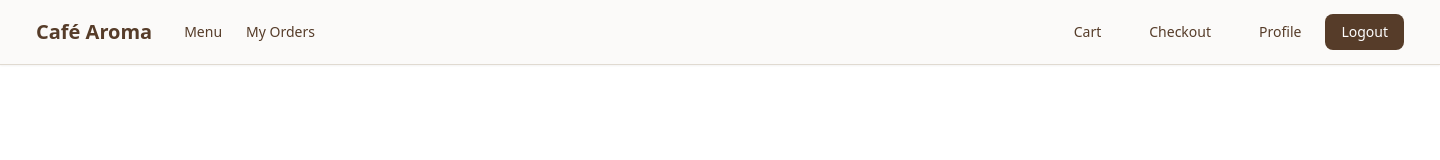
Test: Navbar Component › Logout Functionality › shows 'Logging out...' text while logout is in progress
Click the button "Logout".
click(1365, 32)  # box [1325, 14, 1404, 50]
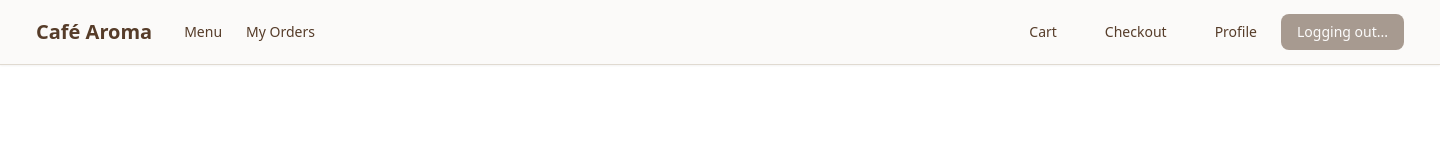
Check: the button "Logging out..." is shown, box [1281, 14, 1404, 50]
